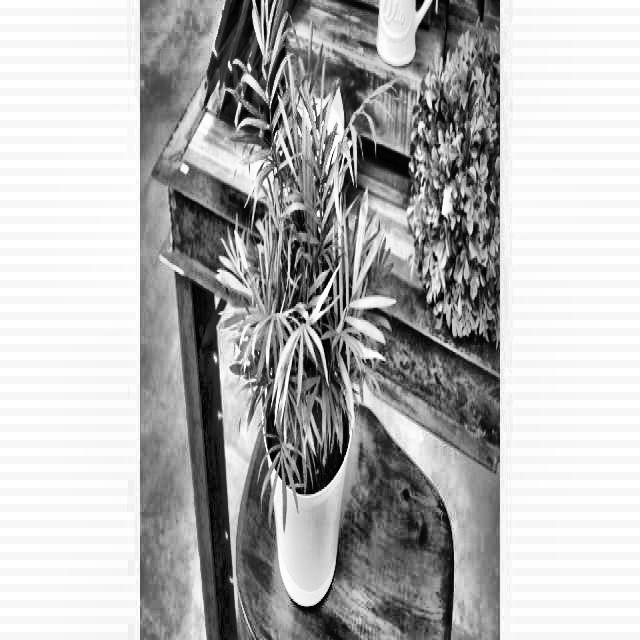plants: (228, 29, 384, 598), (411, 47, 501, 331)
